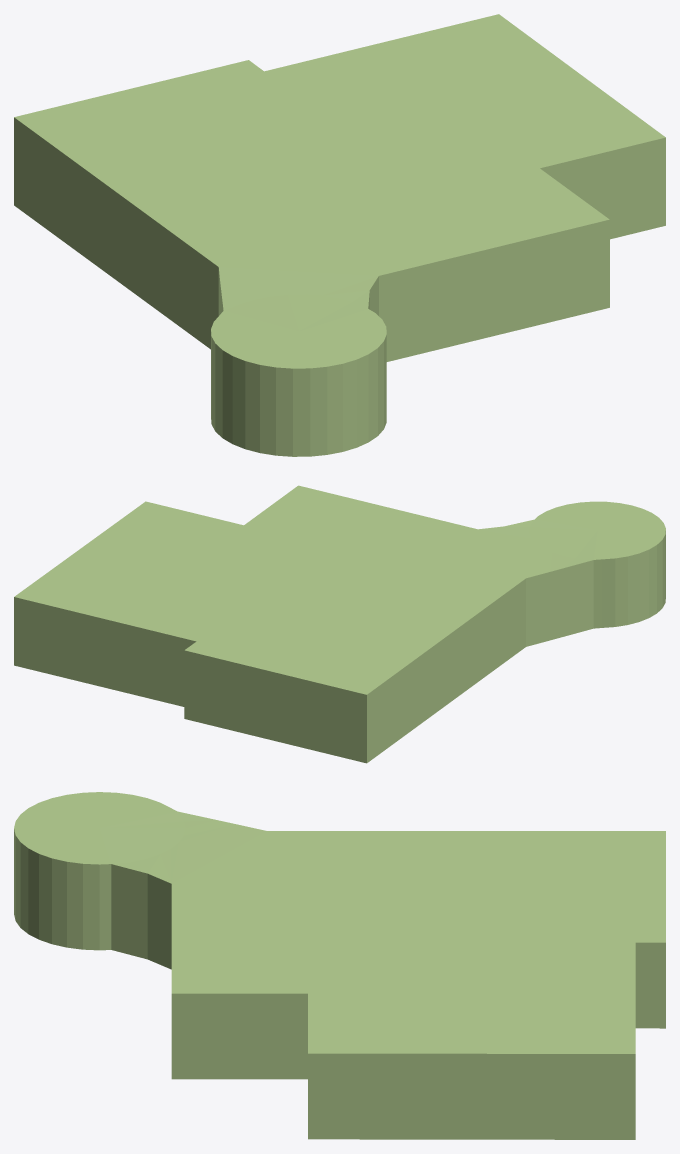
The model's file is Platform_StartingArea01.fbx.
3 renders of one model, top to bottom at view 1: azimuth 30°, elevation 25°; view 2: azimuth 150°, elevation 25°; view 3: azimuth 270°, elevation 25°, orthographic. The views are drawn at different scales.
Visible parts, largest first — view 1: Platform_StartingArea01; view 2: Platform_StartingArea01; view 3: Platform_StartingArea01.
Boxes of the visible parts, x1,y1,x2,y2 form: Platform_StartingArea01: [14, 14, 665, 456]; Platform_StartingArea01: [14, 485, 665, 763]; Platform_StartingArea01: [14, 792, 665, 1139].
Bounding box in the file's own units: 93.96 × 14.36 × 98.8.
